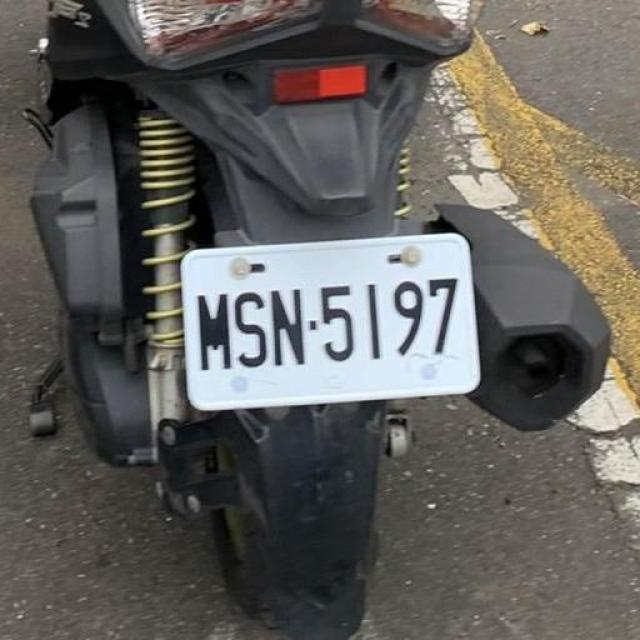W: (170, 221, 486, 420)
